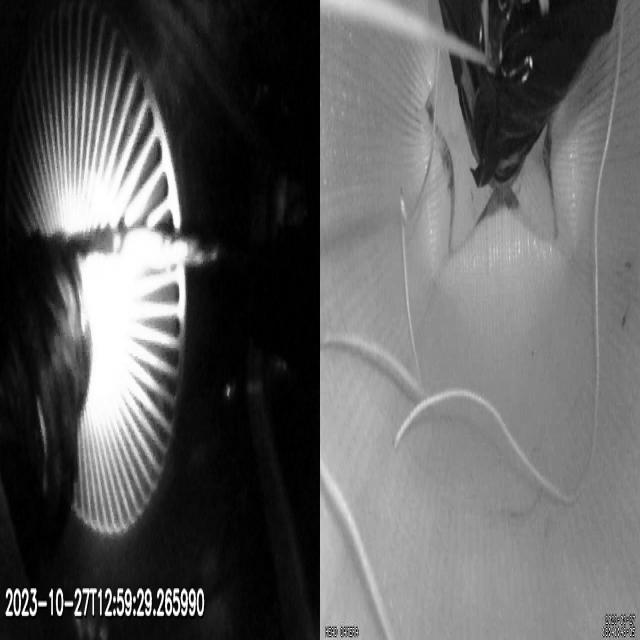red-circle: (426, 96, 556, 223)
